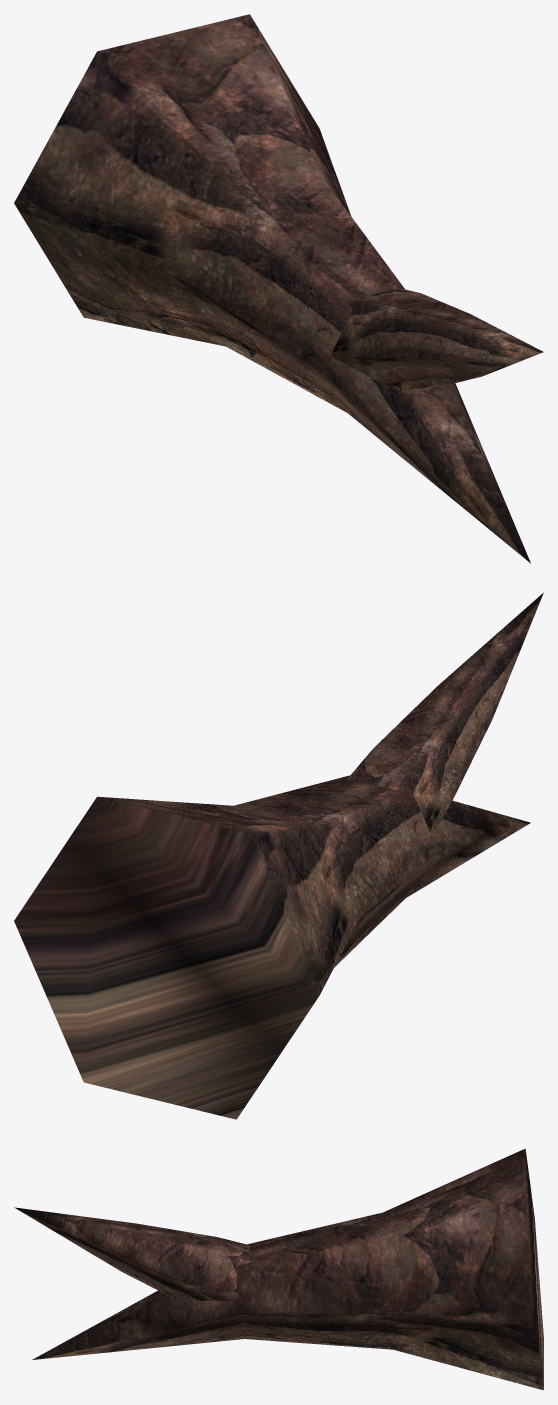
Rendered from stalagmite_04.obj.
The picture shows the model from 3 angles, top to bottom: view 1: azimuth 30°, elevation 25°; view 2: azimuth 150°, elevation 25°; view 3: azimuth 270°, elevation 25°; orthographic projection. The views are drawn at different scales.
Visible parts, largest first — view 1: (null); view 2: (null); view 3: (null).
Boxes of the visible parts, x1,y1,x2,y2 form: (null): [14, 14, 543, 563]; (null): [14, 592, 543, 1119]; (null): [14, 1148, 543, 1390].
Size of the model in its own units: 3.81 by 3.29 by 8.29.
